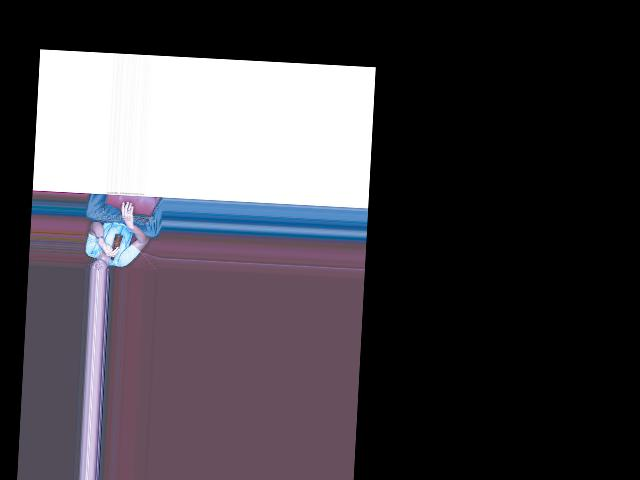beer: (110, 233, 123, 261)
